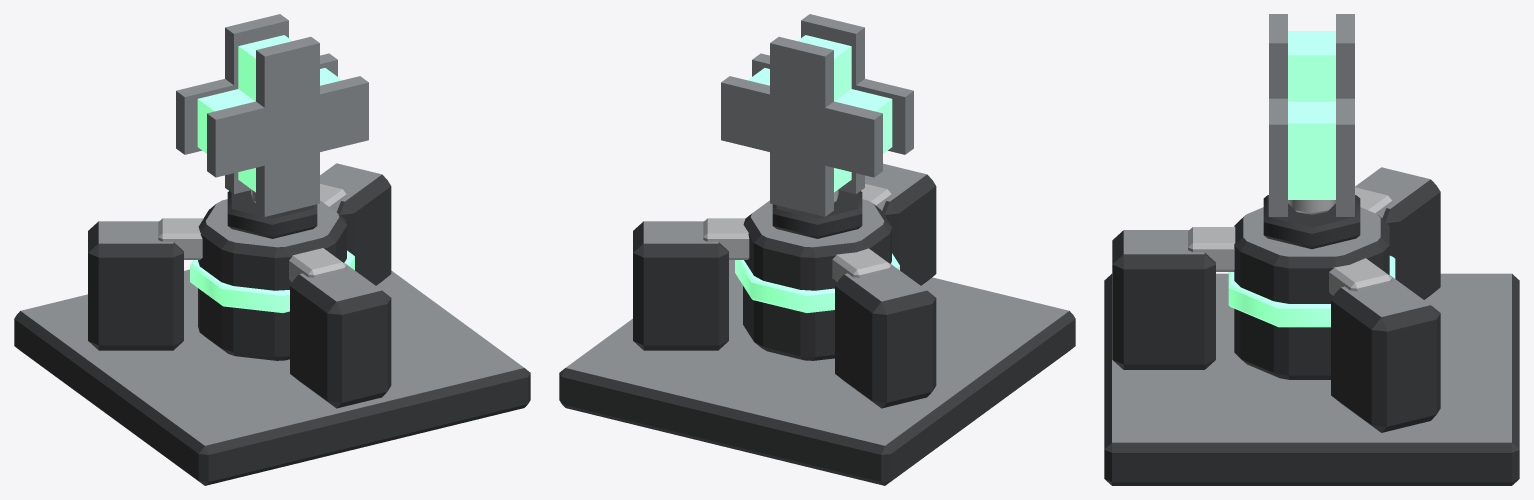
Rendered from R4X_RepairTurretDeployer_LOD1.fbx.
3 views of the same model, side by side, from view 1: azimuth 30°, elevation 25°; view 2: azimuth 150°, elevation 25°; view 3: azimuth 270°, elevation 25° (orthographic). The views are drawn at different scales.
Parts seen in each view (by area): view 1: R4X_RepairTurretDeployer_LOD1; view 2: R4X_RepairTurretDeployer_LOD1; view 3: R4X_RepairTurretDeployer_LOD1.
Boxes of the visible parts, x1,y1,x2,y2 form: R4X_RepairTurretDeployer_LOD1: (14,14,530,485); R4X_RepairTurretDeployer_LOD1: (559,14,1075,485); R4X_RepairTurretDeployer_LOD1: (1104,14,1519,485).
Bounding box in the file's own units: 0.52 × 0.515 × 0.52.
